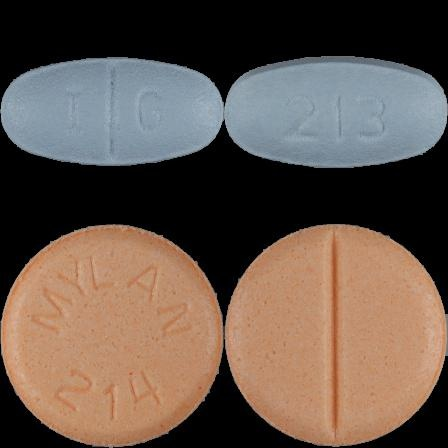64725-0213: (0, 0, 224, 224)
